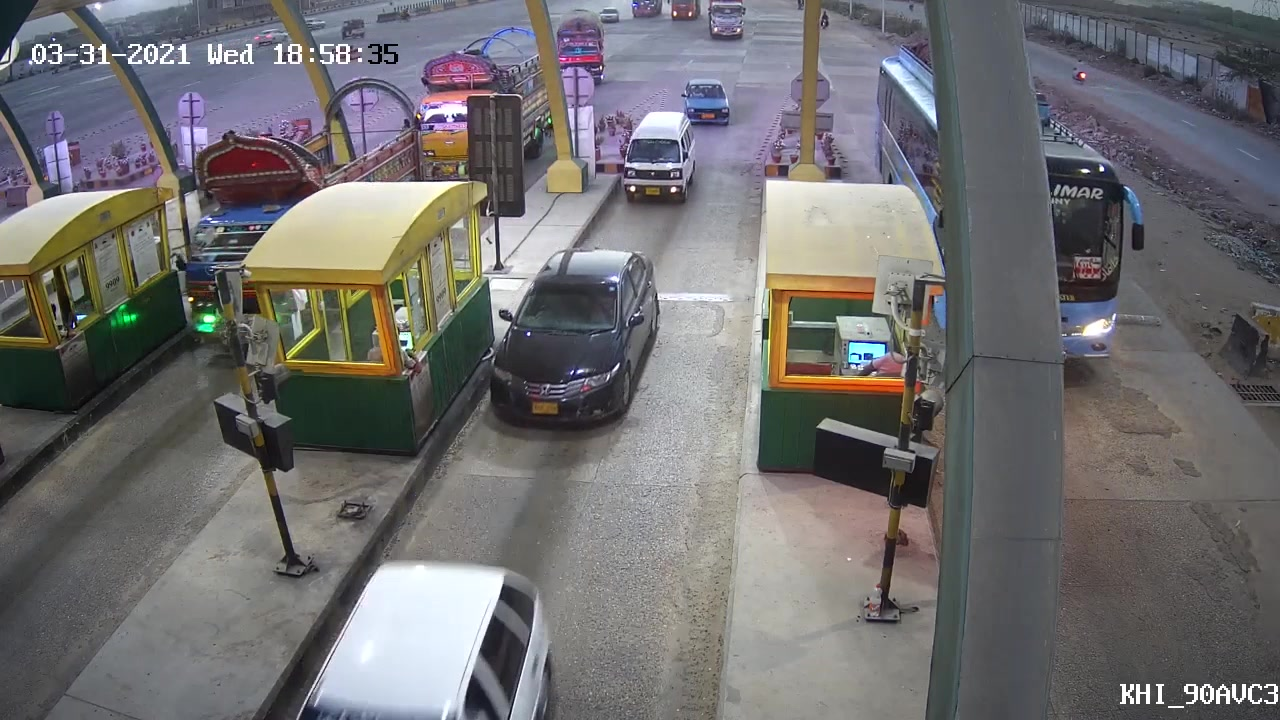F1: (490, 241, 657, 431)
F2: (609, 110, 696, 207)
